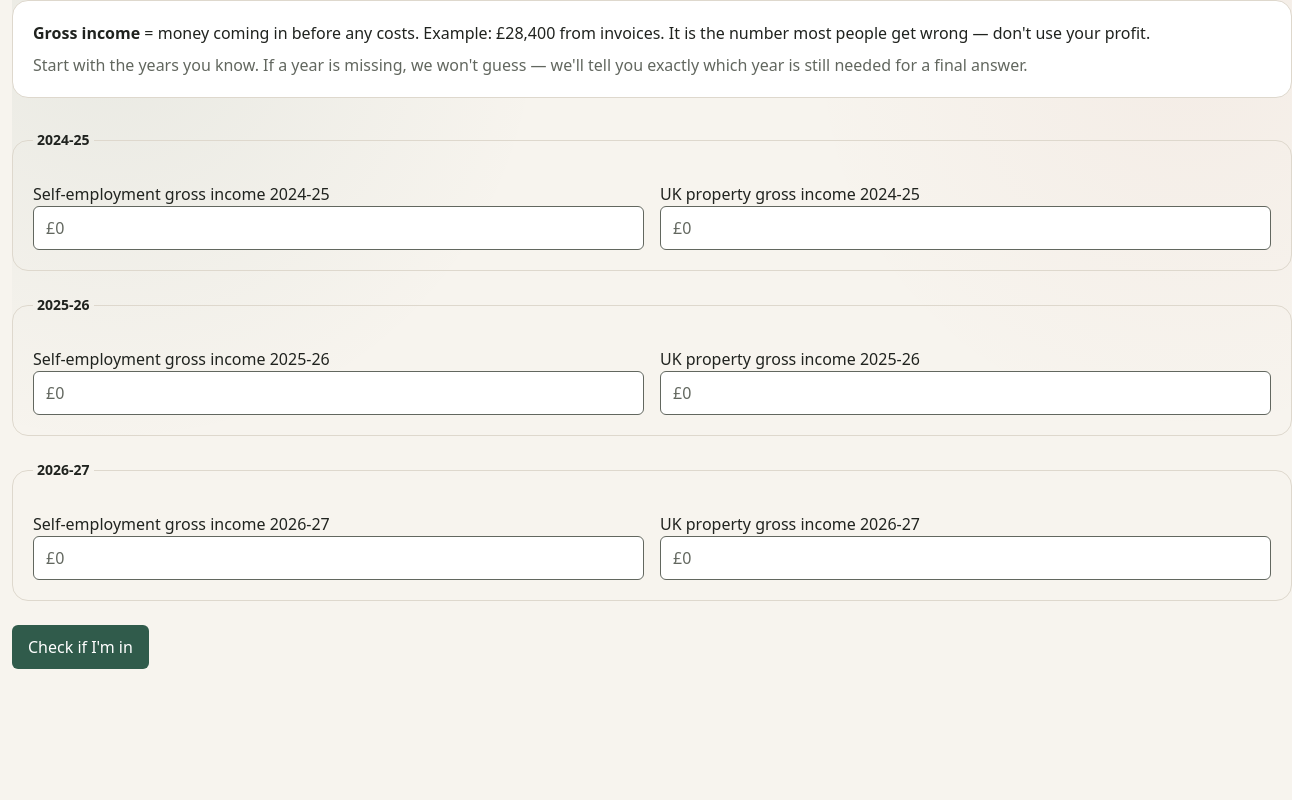
eligibility form › rejects negative amounts with an inline field error and no verdict
The width and height of the screenshot is (1292, 800).
Step 1. Type "-5000" into the field labelled "UK property gross income 2024-25" → {"x": 966, "y": 228}, box [660,206,1271,250]
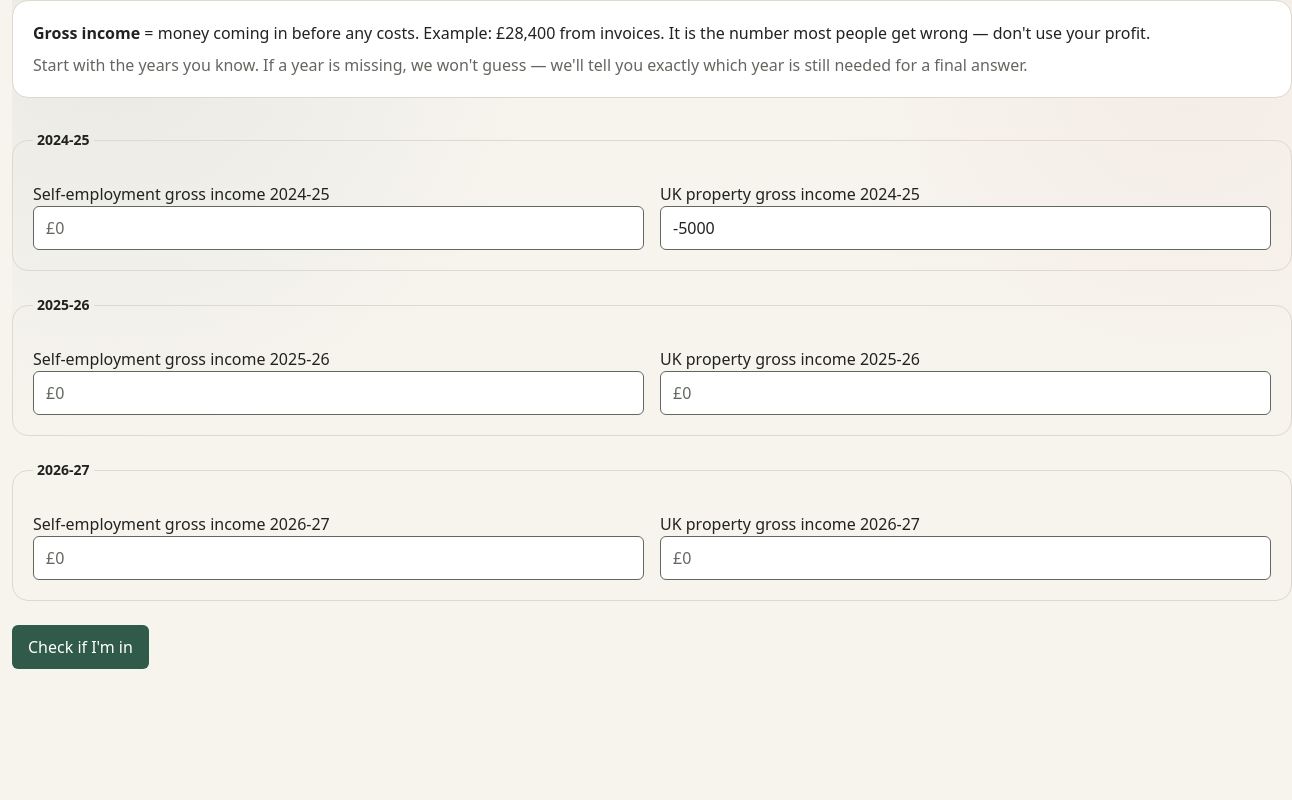
Step 2. Click the button "Check if I'm in" → {"x": 80, "y": 647}, box [12,625,149,669]
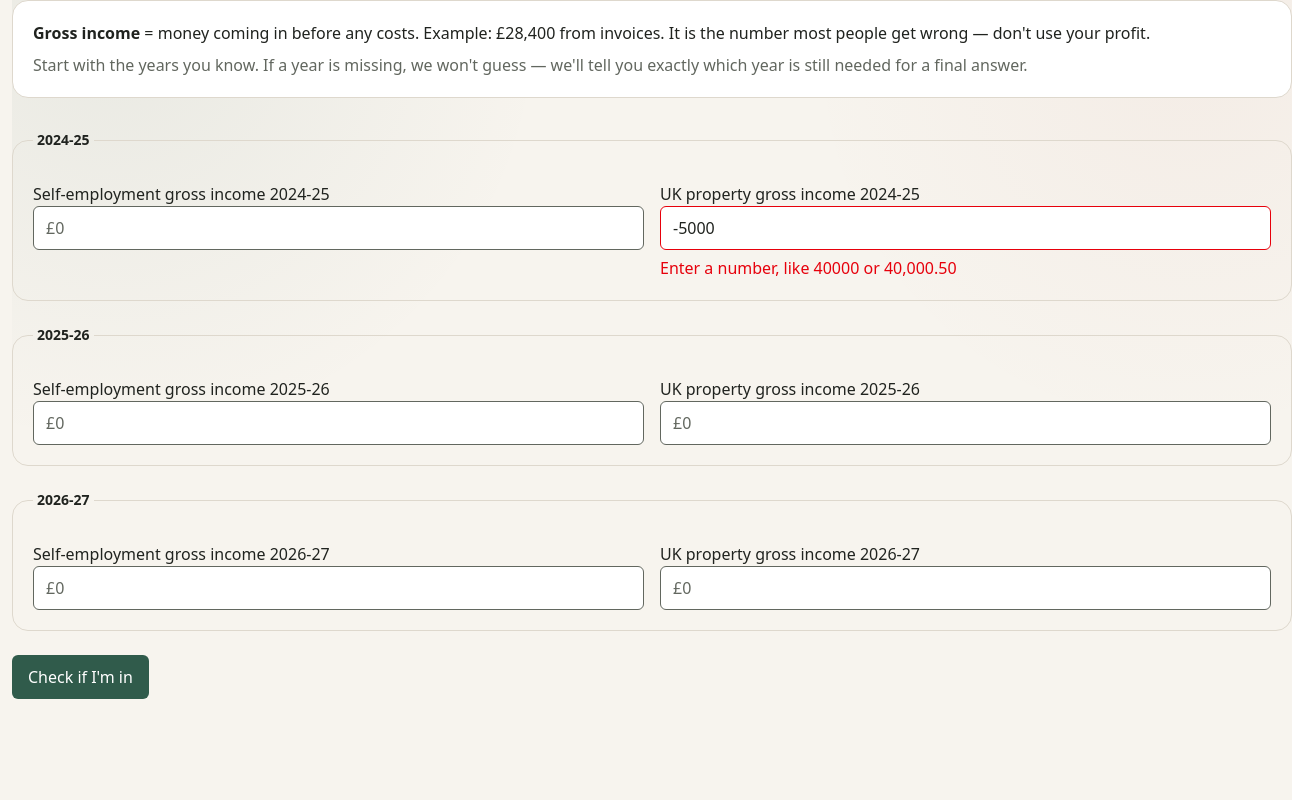
Now the text "Enter a number, like 40000 or 40,000.50" is shown, box [660,257,957,279]
